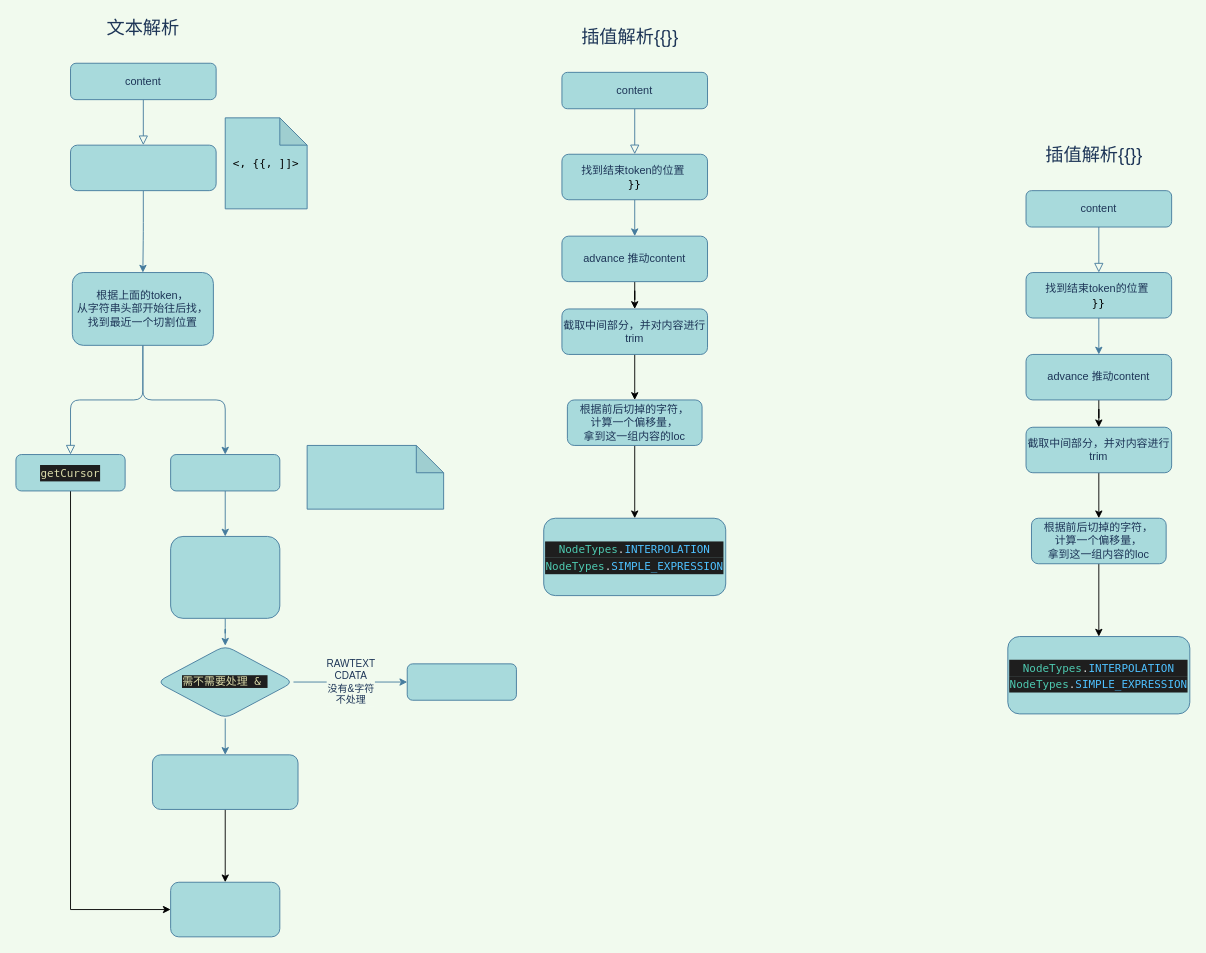
This 1206x953 diagram has some shape labels left out. Here are the shapes that lost their labels. From the top down, the box of each, then its label:
(70, 144, 216, 191): 定义结束token 标记
(170, 454, 280, 491): 切割字符串
(306, 445, 444, 509): parseTextData 部分
(170, 536, 280, 618): advanceBy，把content中的内容向前推进length
(406, 663, 516, 700): 直接返回字符串
(152, 754, 298, 809): decodeEntities处理&
(170, 881, 280, 937): NodeTypes . TEXT
